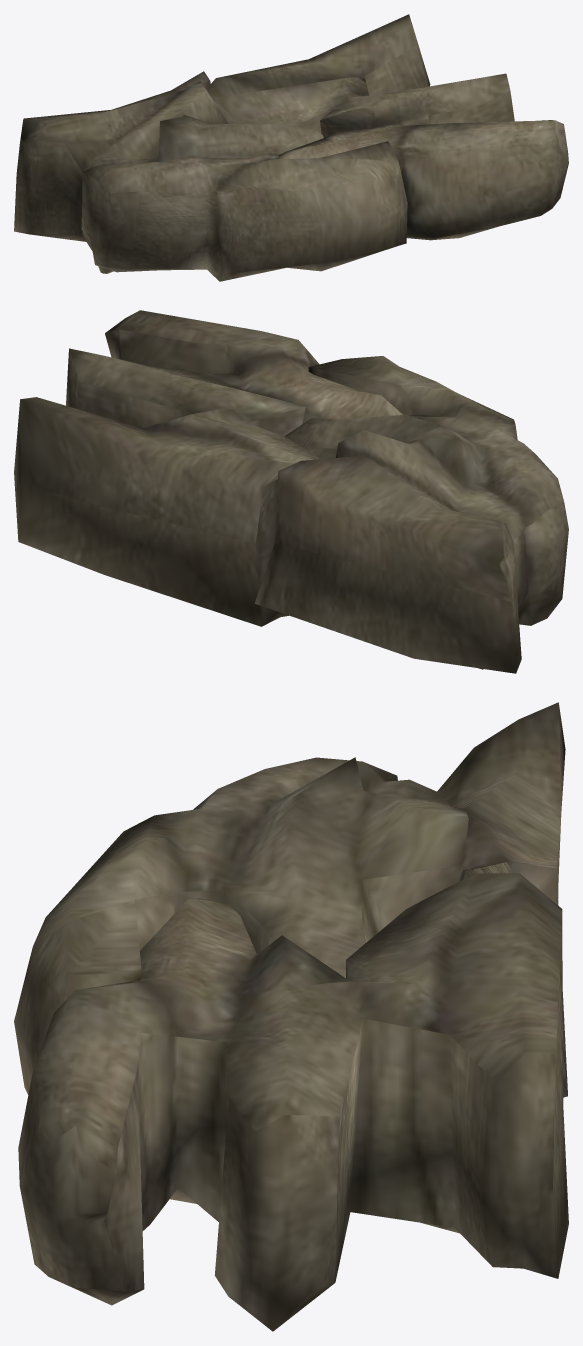
The model's file is hill400_sandbag_endsection_left.glb.
The picture shows the model from 3 angles, top to bottom: view 1: azimuth 30°, elevation 25°; view 2: azimuth 150°, elevation 25°; view 3: azimuth 270°, elevation 25°; orthographic projection. The views are drawn at different scales.
Size of the model in its own units: 60.44 by 21.85 by 33.4.
Materials: 1 (1 with a texture image).
